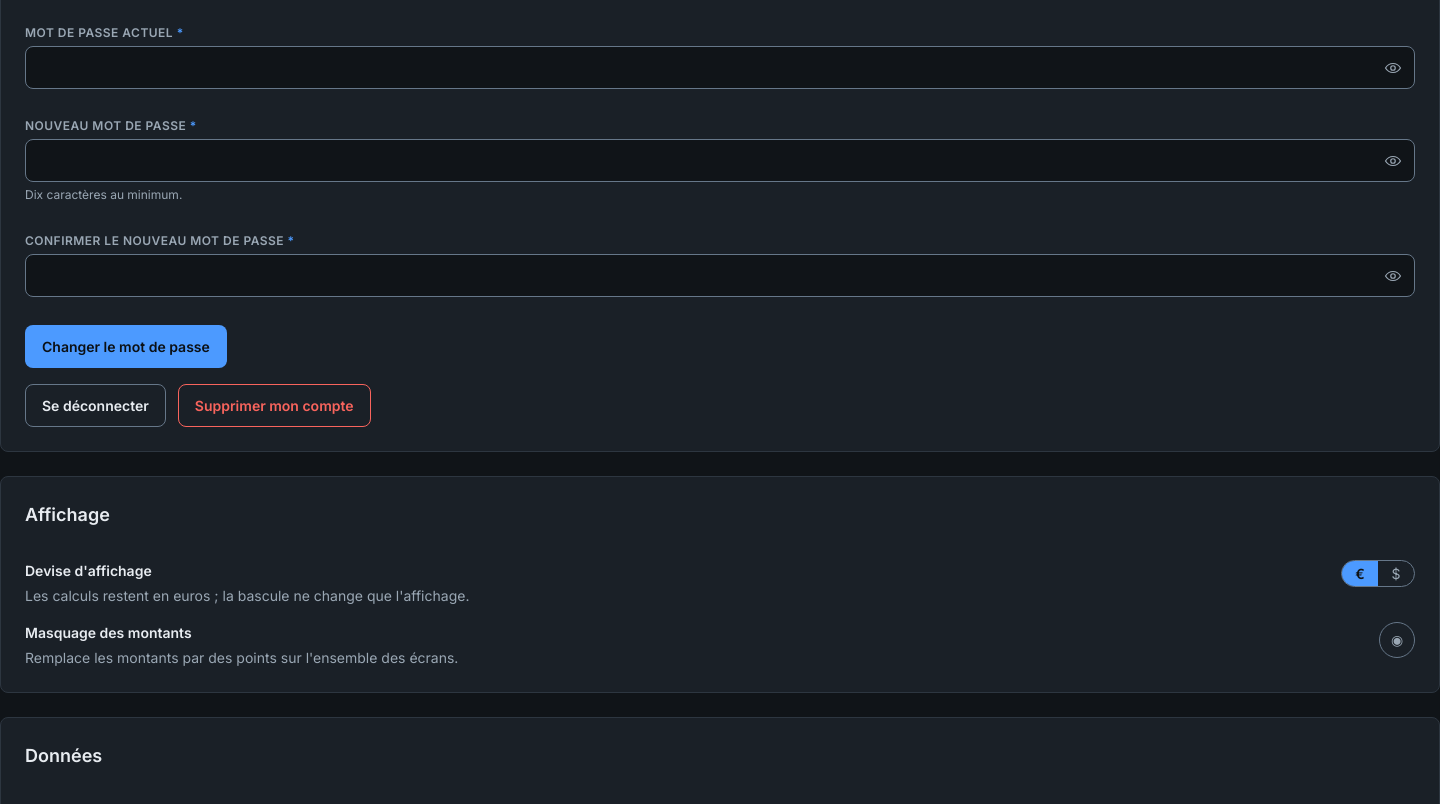
Test: suppression du compte › se ferme par Échap et rend le focus au bouton qui l’a ouvert
The image size is (1440, 804).
(page scrolled)
Click the button "Supprimer mon compte" at x=274, y=406, box [178,384,371,427]
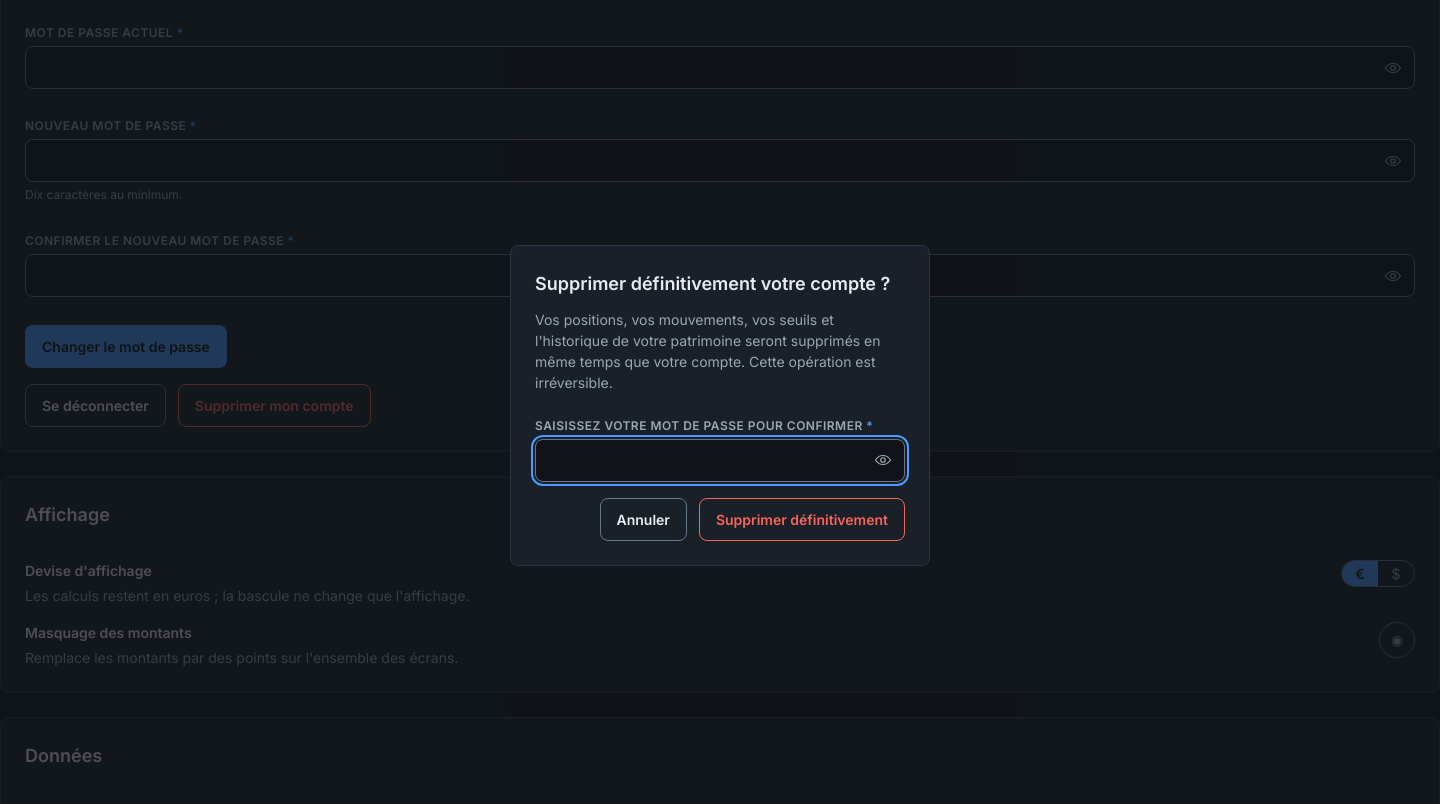
Press Escape
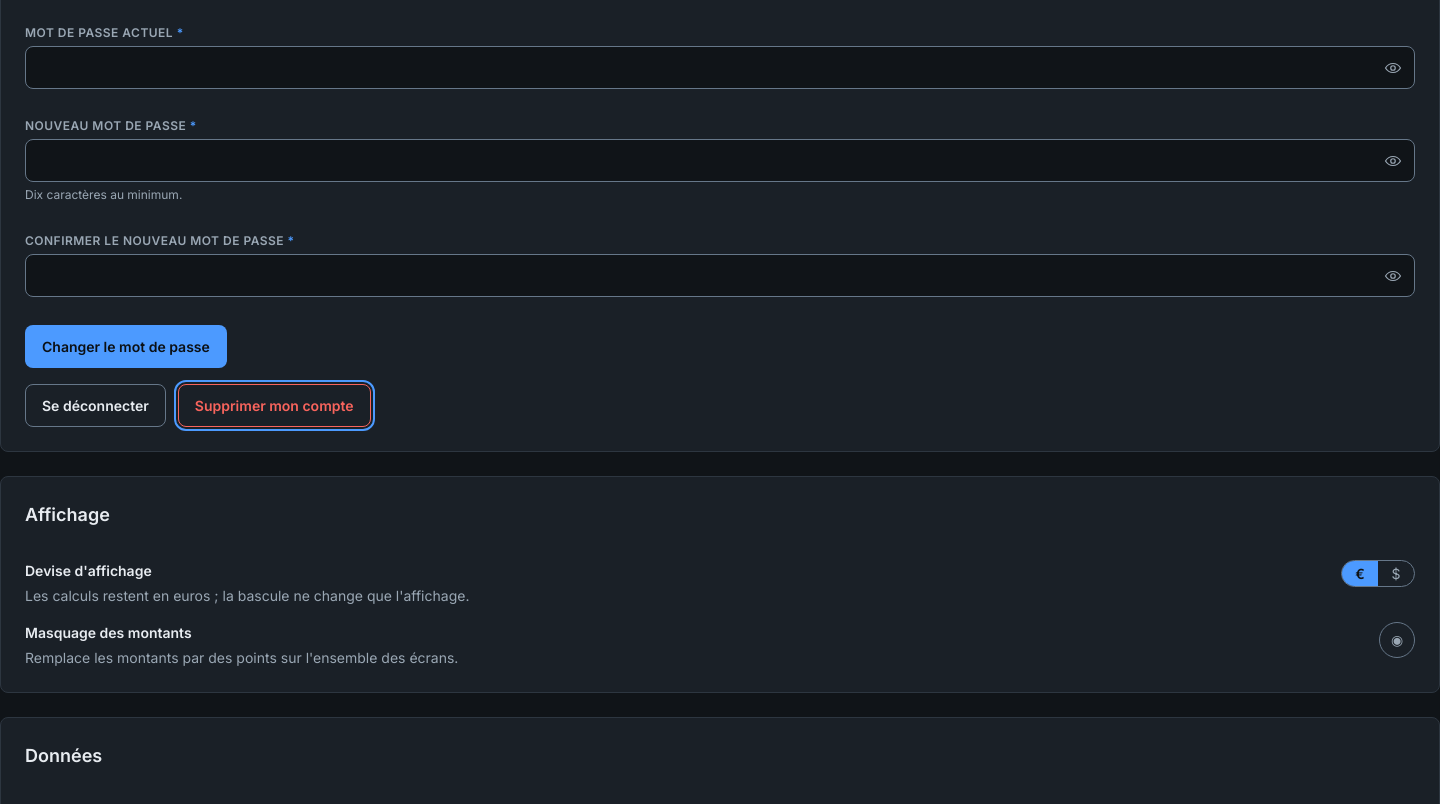
Now the dialog is gone
